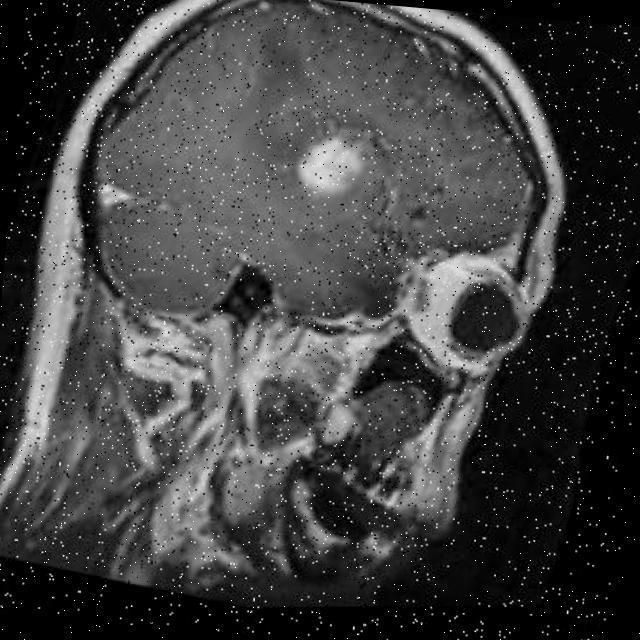MCI: (234, 104, 432, 274)
